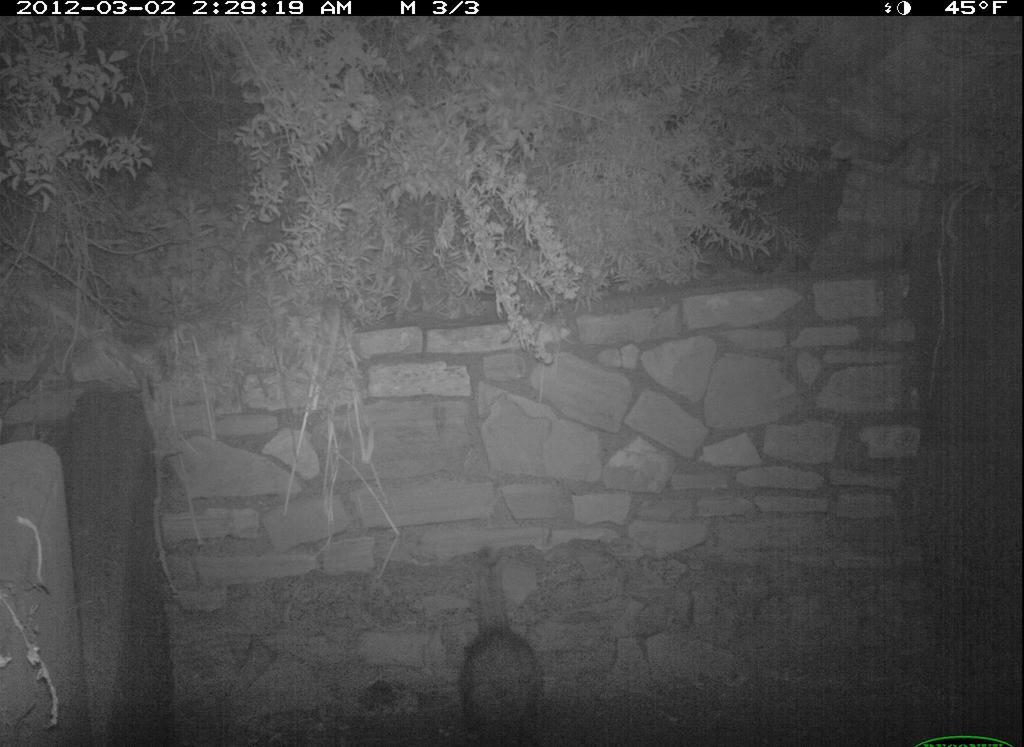raccoon: (449, 542, 556, 745)
